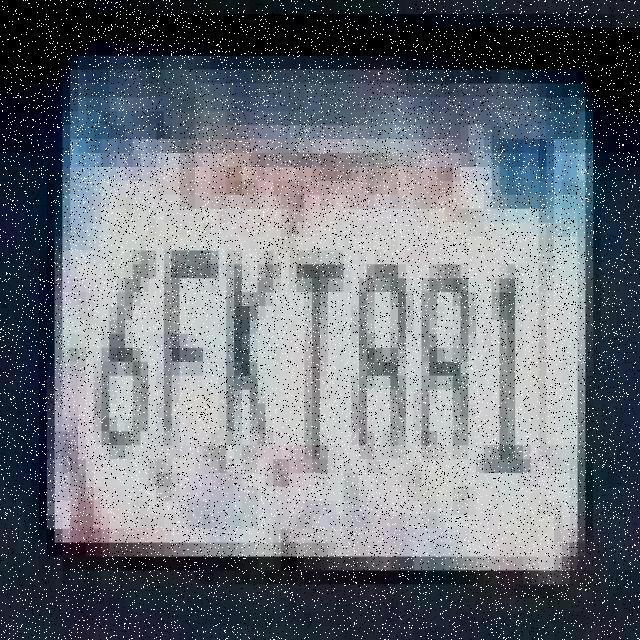LicensePlate: (41, 21, 599, 578)
